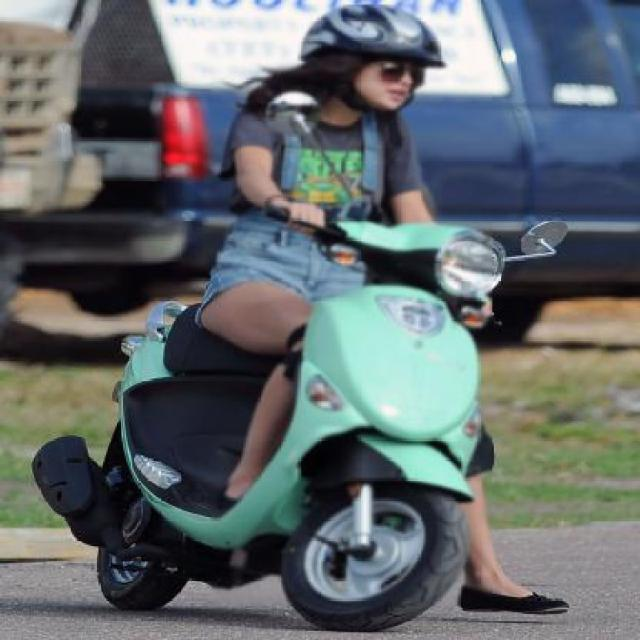helmet: (259, 0, 463, 134)
motorcycle: (27, 0, 561, 634)
